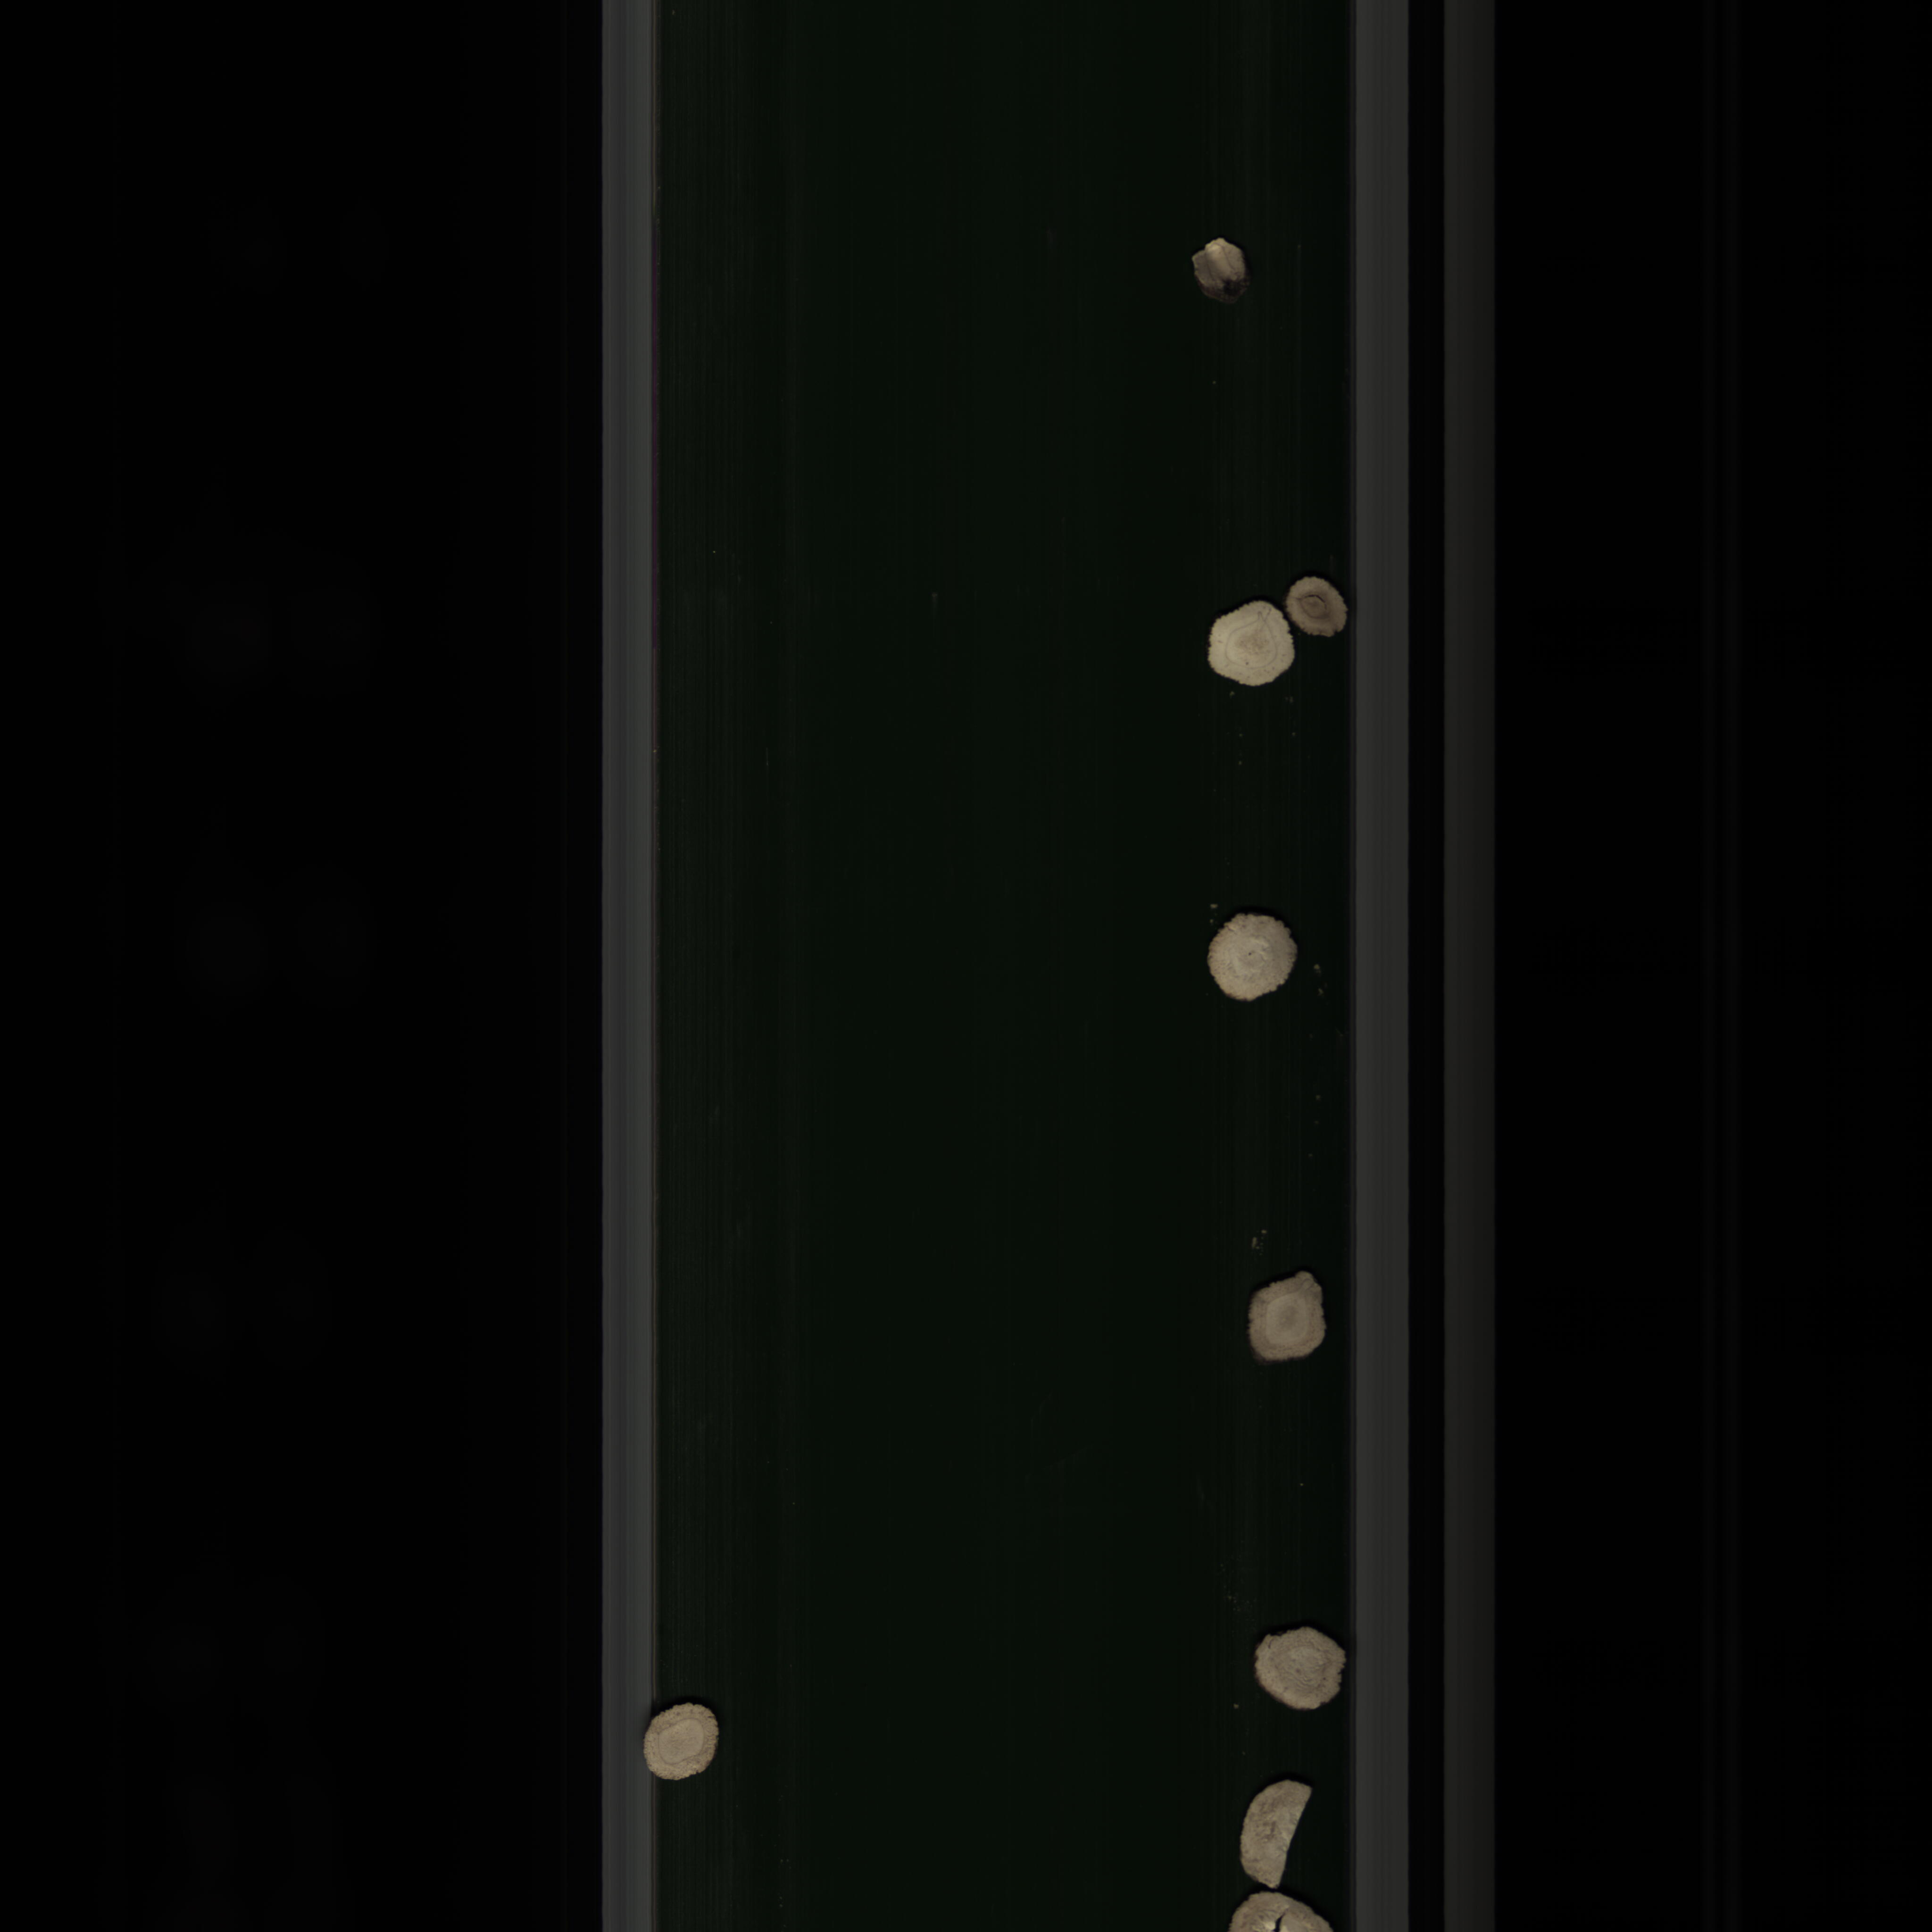debris: (1233, 1773, 1325, 1890)
moldy: (1182, 228, 1265, 315), (1284, 577, 1361, 637)
